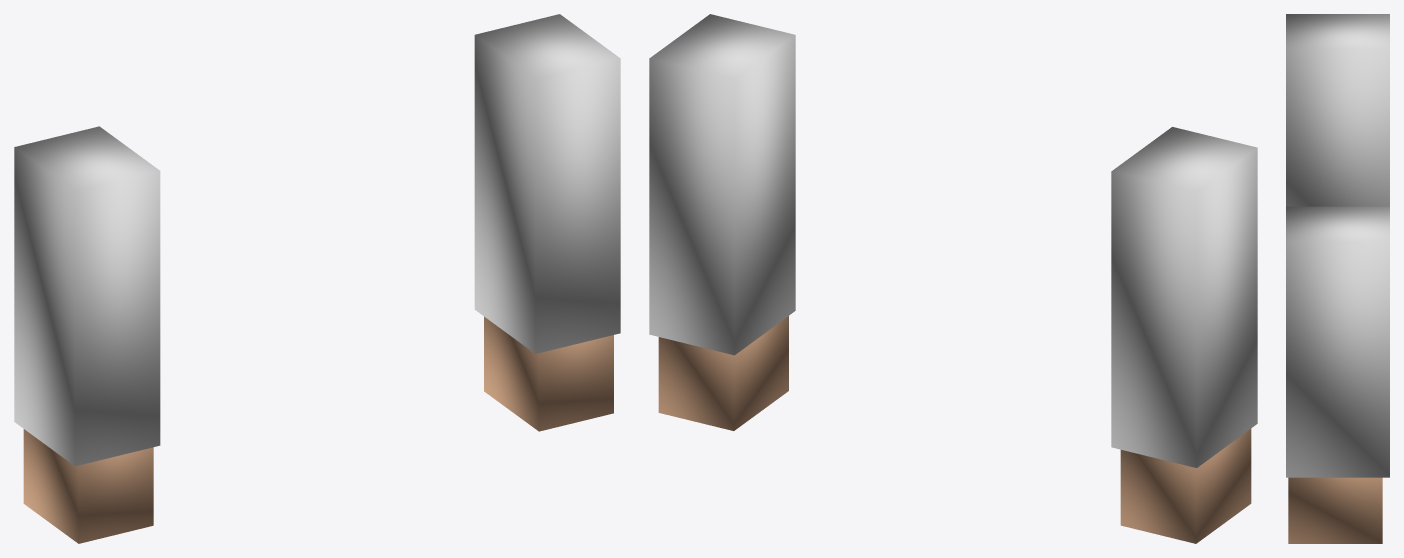
Rendered from skomma_hand_03.glb.
3 renders of one model, left to right at view 1: azimuth 30°, elevation 25°; view 2: azimuth 150°, elevation 25°; view 3: azimuth 270°, elevation 25°, orthographic. The views are drawn at different scales.
Visible parts, largest first — view 1: Left_Arm, Right_Arm, Left_Hand, Right_Hand; view 2: Right_Arm, Left_Arm, Left_Hand, Right_Hand; view 3: Right_Arm, Left_Arm, Right_Hand.
Part boxes in pixels (left/top/right/bottom): Left_Arm: left=14, top=126, right=160, bottom=466; Right_Arm: left=474, top=14, right=620, bottom=353; Left_Hand: left=23, top=429, right=153, bottom=543; Right_Hand: left=484, top=316, right=613, bottom=431; Right_Arm: left=649, top=14, right=795, bottom=355; Left_Arm: left=1111, top=127, right=1257, bottom=467; Left_Hand: left=1120, top=428, right=1251, bottom=543; Right_Hand: left=658, top=316, right=788, bottom=430; Right_Arm: left=1286, top=206, right=1389, bottom=477; Left_Arm: left=1286, top=14, right=1389, bottom=206; Right_Hand: left=1288, top=477, right=1382, bottom=543.
Bounding box in the file's own units: 2.18 × 1.35 × 0.42.
